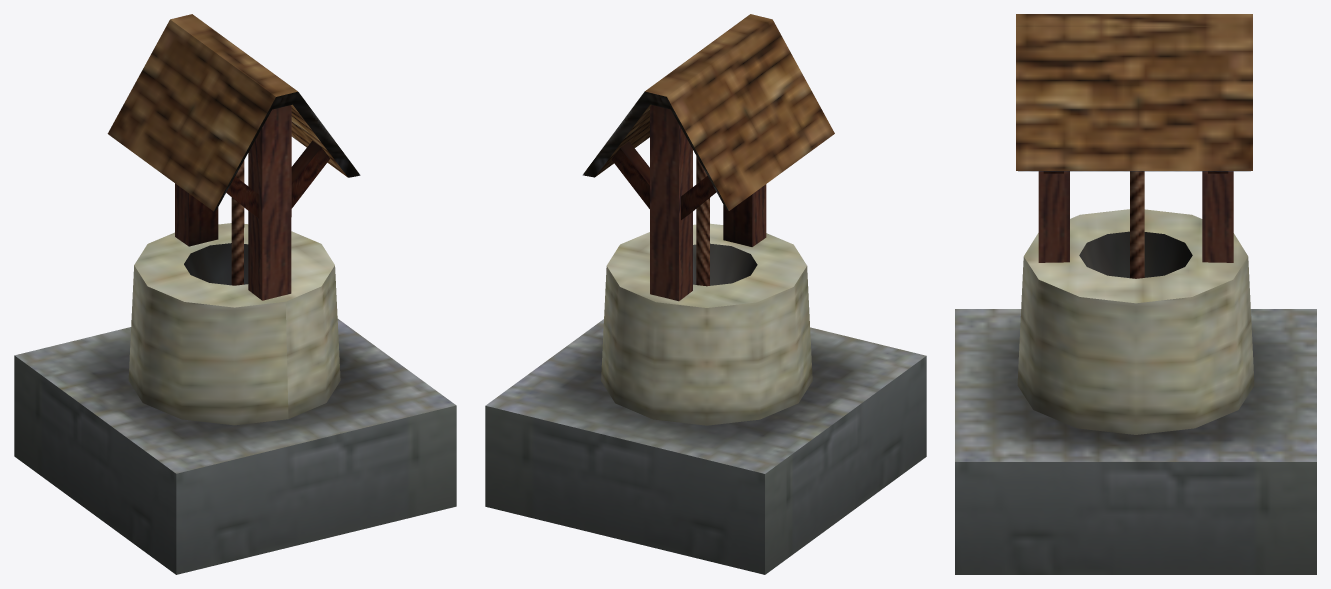
The model's file is med_tile_well.obj.
The picture shows the model from 3 angles, left to right: view 1: azimuth 30°, elevation 25°; view 2: azimuth 150°, elevation 25°; view 3: azimuth 270°, elevation 25°; orthographic projection. The views are drawn at different scales.
Visible parts, largest first — view 1: tile_tent_blue01; view 2: tile_tent_blue01; view 3: tile_tent_blue01.
Boxes of the visible parts, <box> form: tile_tent_blue01: <box>14,14,456,574</box>; tile_tent_blue01: <box>485,14,926,574</box>; tile_tent_blue01: <box>955,14,1316,574</box>.
Bounding box in the file's own units: 1 × 1.46 × 1.
1 material, 1 textured.
